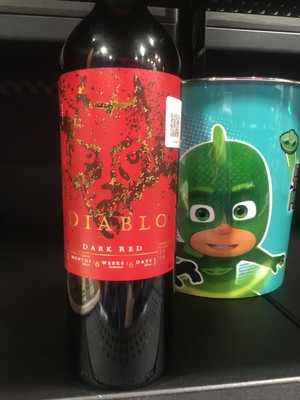diablo dark red: (57, 15, 196, 380)
